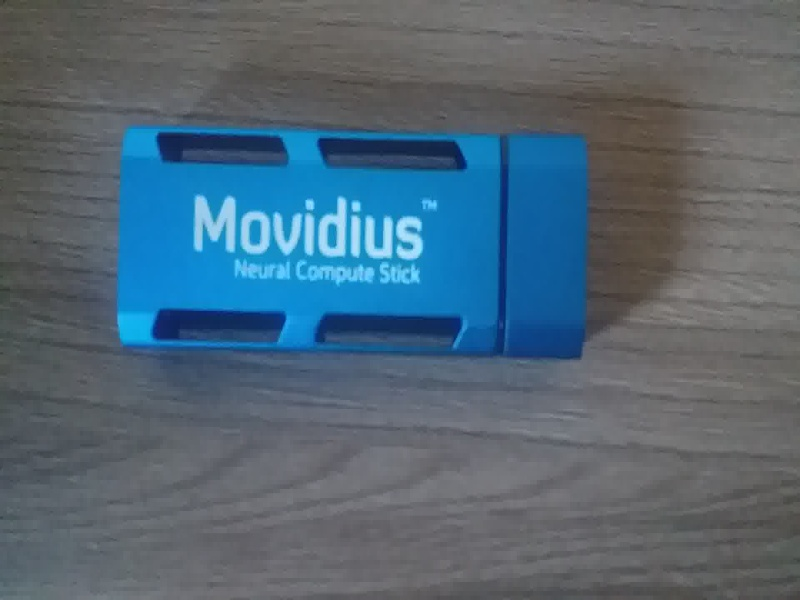movidius: (112, 108, 595, 375)
